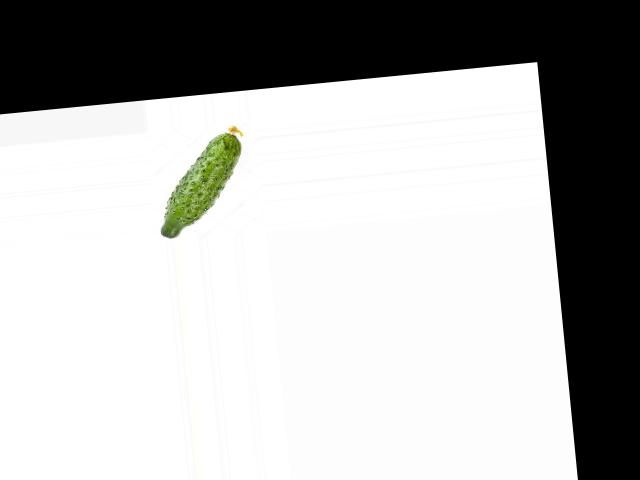cucumber: (150, 124, 251, 238)
